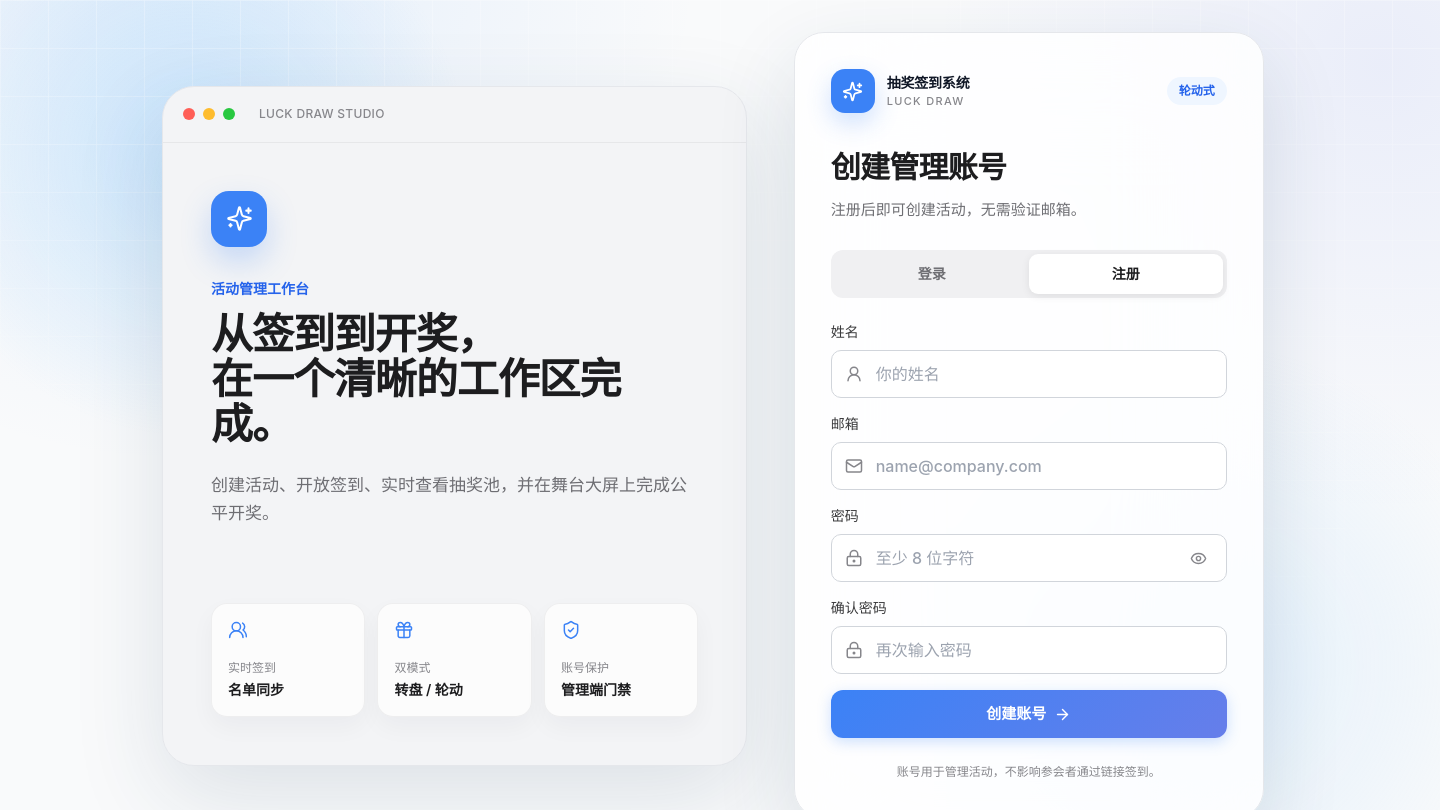
Test case: LoginPage › opens registration for a selected mode and returns to login without email verification
The image size is (1440, 810).
expect the heading "创建管理账号" is shown: met, box top-left (831, 149), bottom-right (1006, 185)
Type "  王小明  " into the field labelled "姓名".
click(1029, 374); type("  王小明  ")  # box top-left (831, 350), bottom-right (1227, 398)
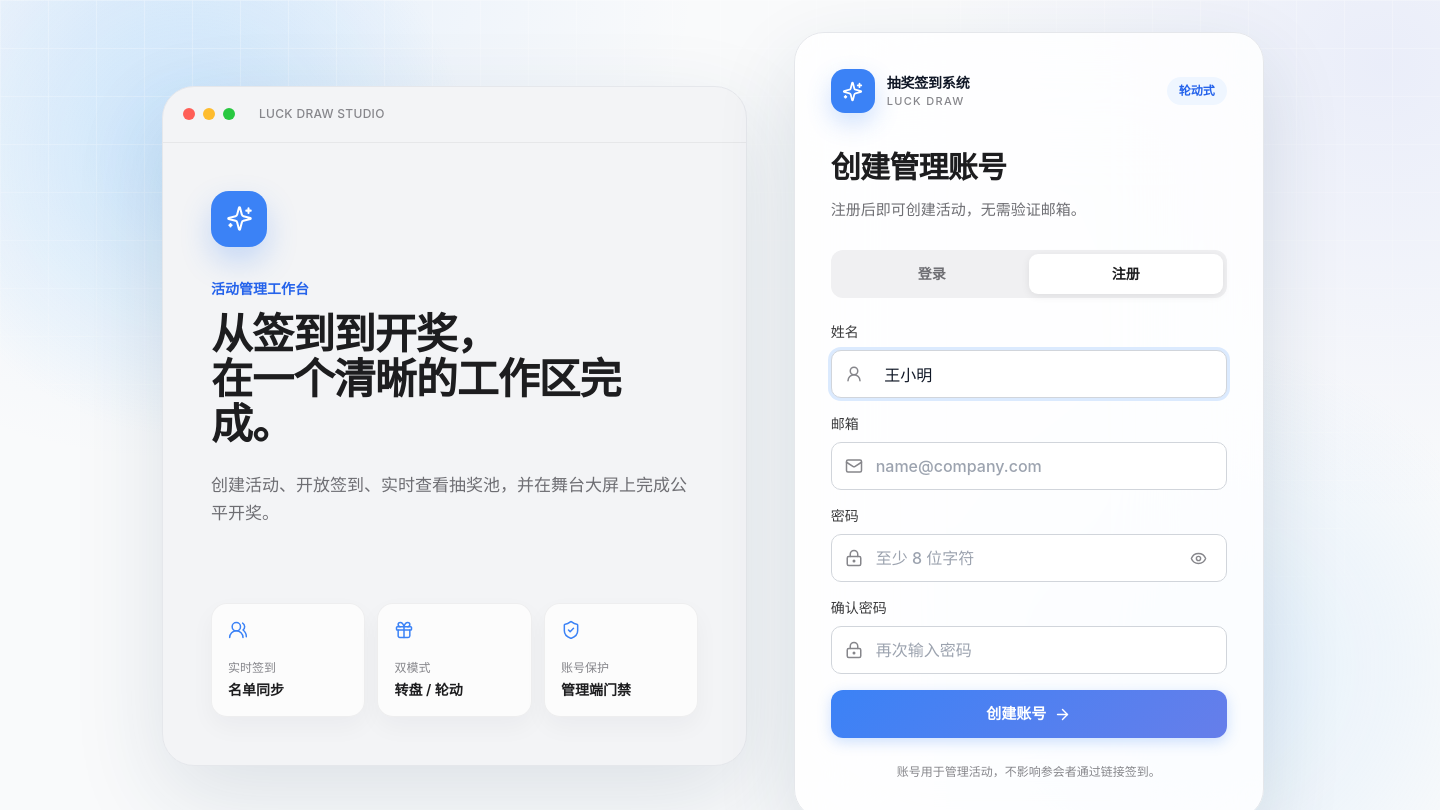
Type "Admin@Example.com" into the field labelled "邮箱".
click(1029, 466); type("Admin@Example.com")  # box top-left (831, 442), bottom-right (1227, 490)
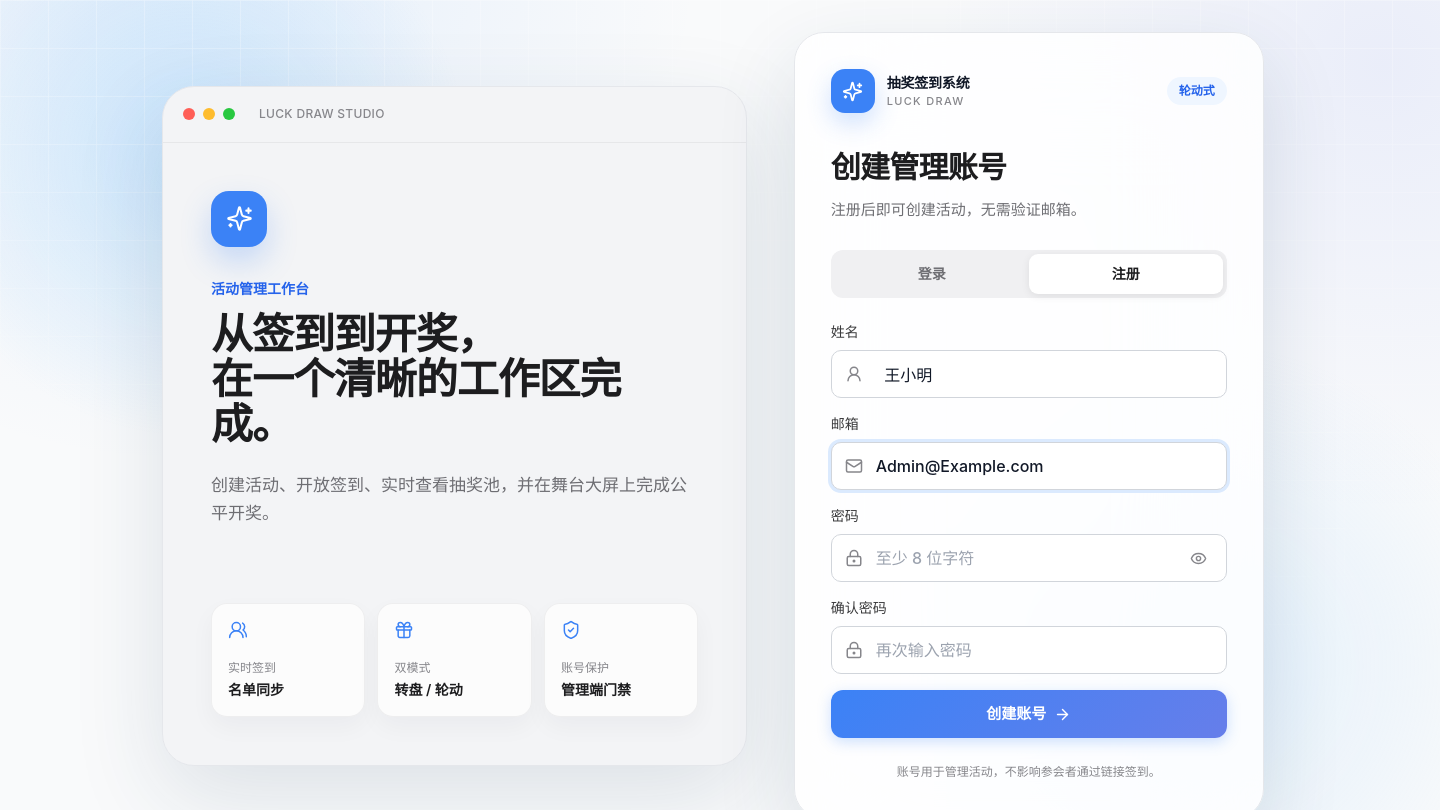
Type "Password123" into the password field labelled "密码".
click(1029, 558); type("Password123")  # box top-left (831, 534), bottom-right (1227, 582)
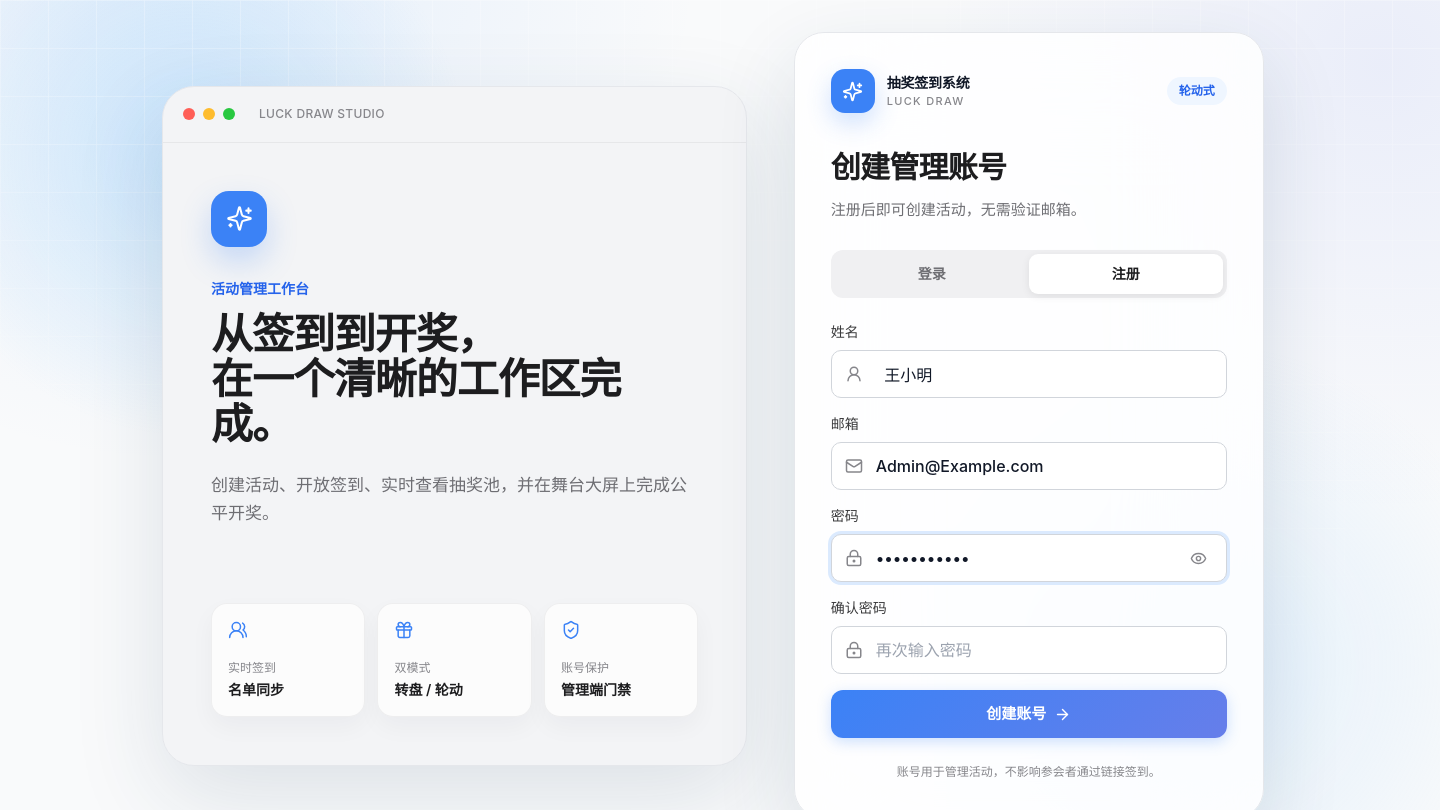
Type "Password123" into the password field labelled "确认密码".
click(1029, 650); type("Password123")  # box top-left (831, 626), bottom-right (1227, 674)
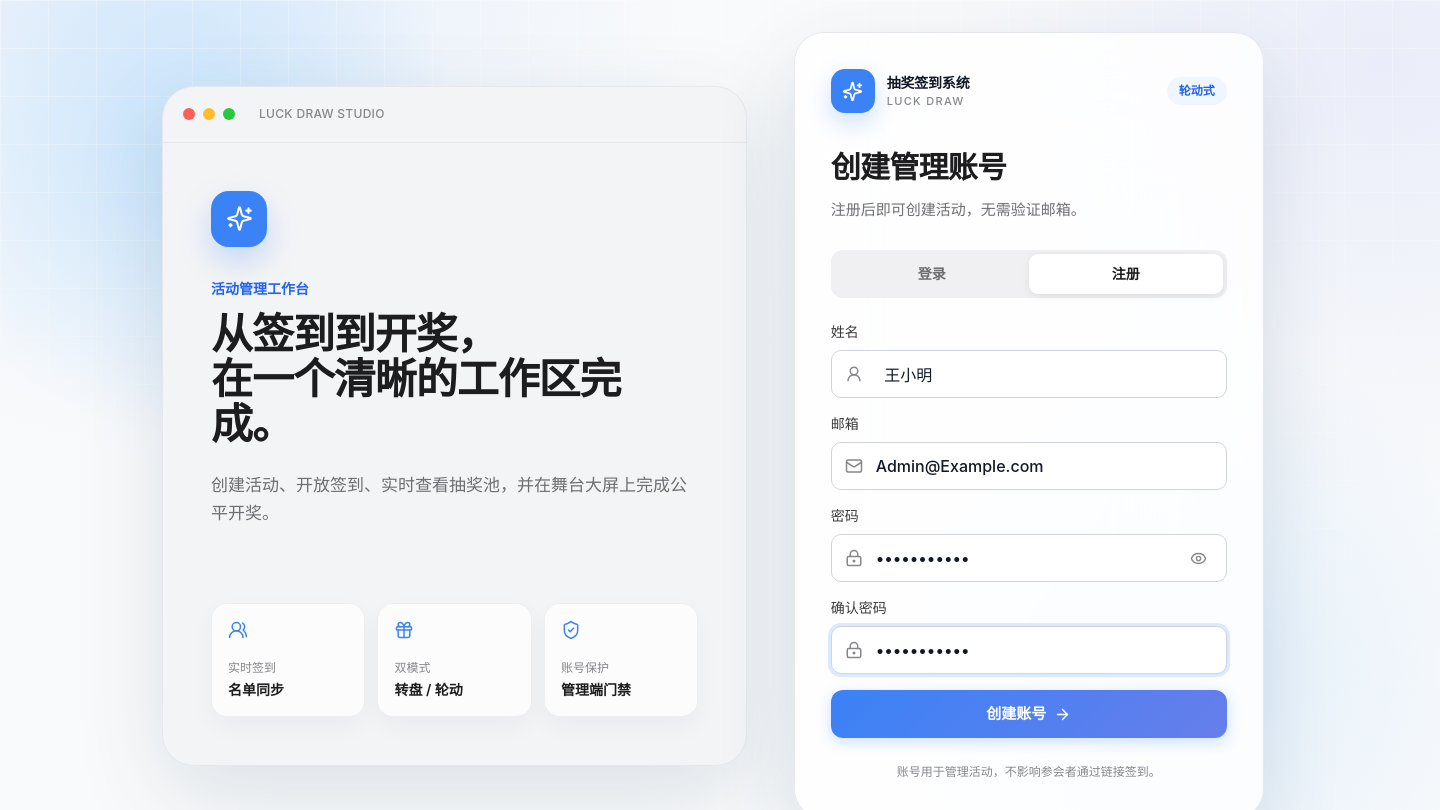
Click the button "创建账号".
click(1029, 714)  # box top-left (831, 690), bottom-right (1227, 738)
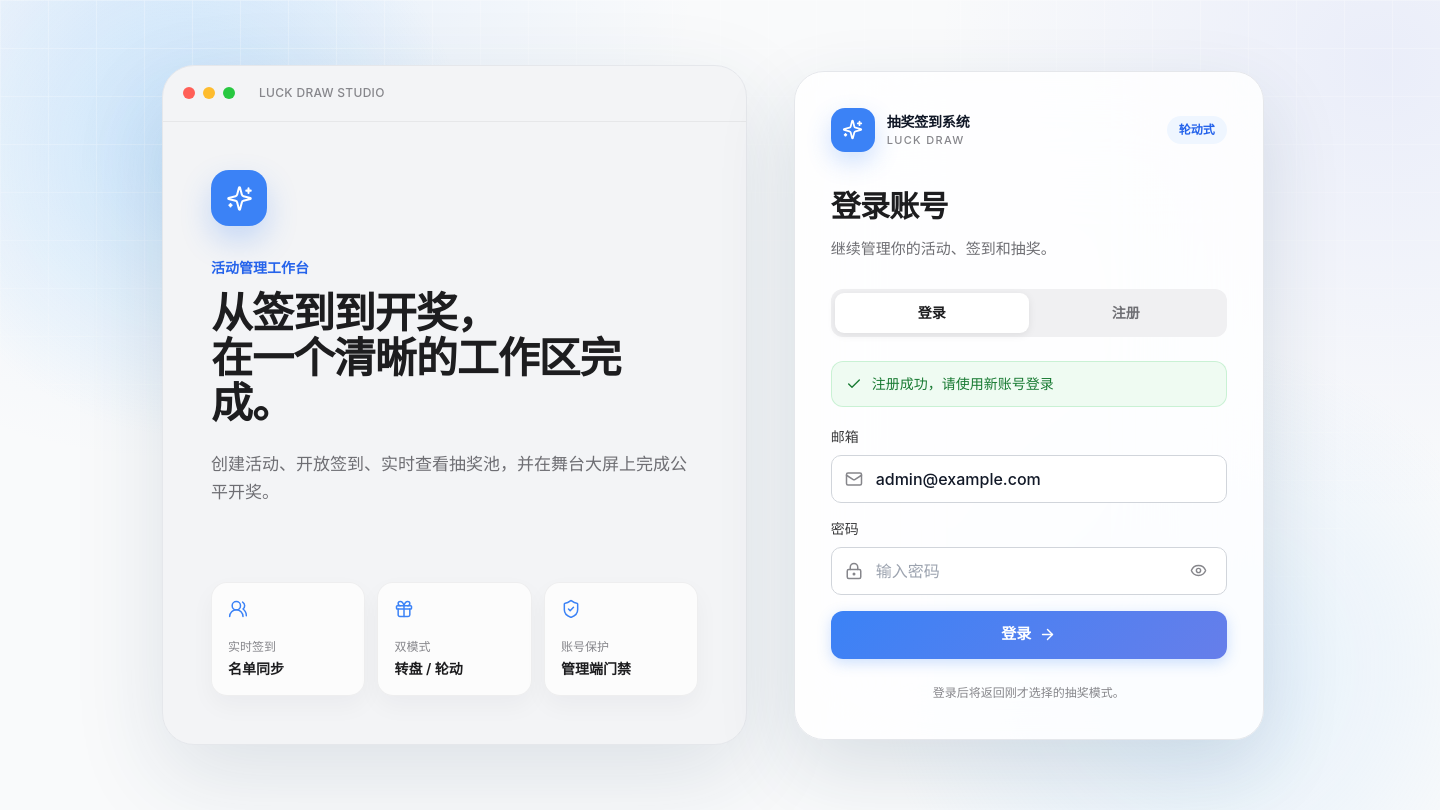
expect the heading "登录账号" is shown: met, box top-left (831, 188), bottom-right (948, 224)
expect the text "注册成功，请使用新账号登录" is shown: met, box top-left (872, 374), bottom-right (1054, 394)
